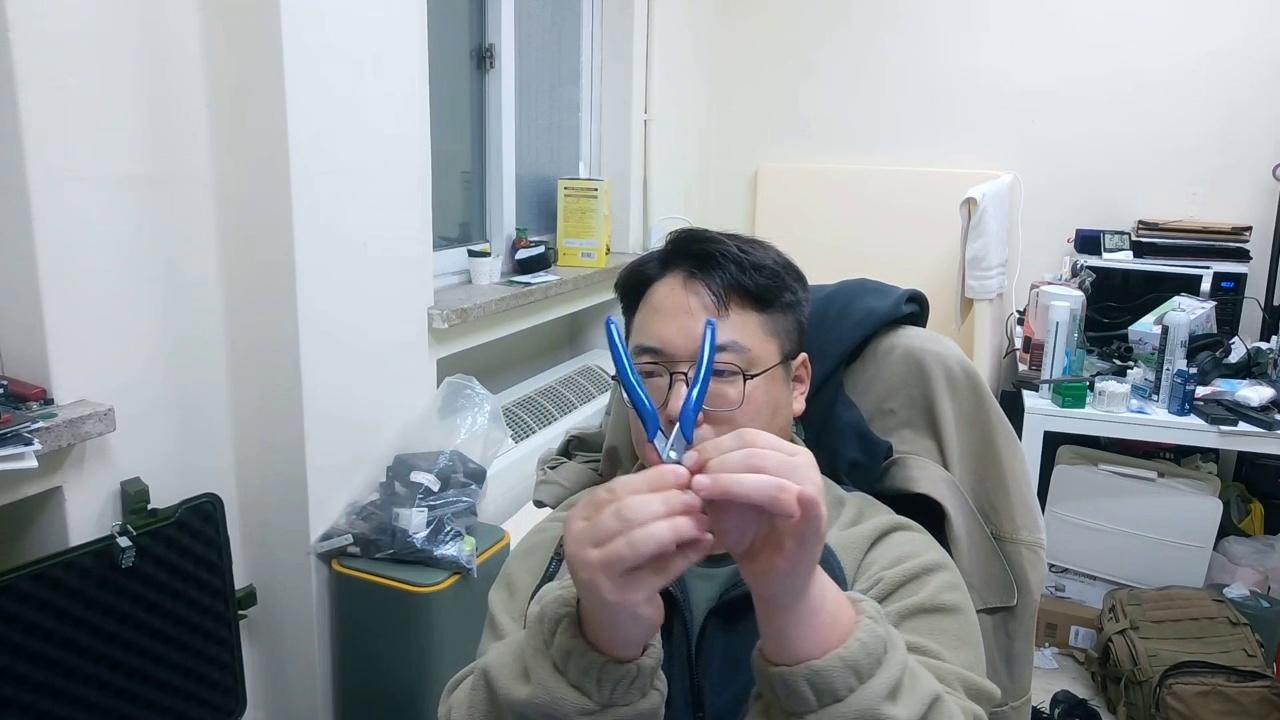blue_pliers: (602, 314, 720, 468)
